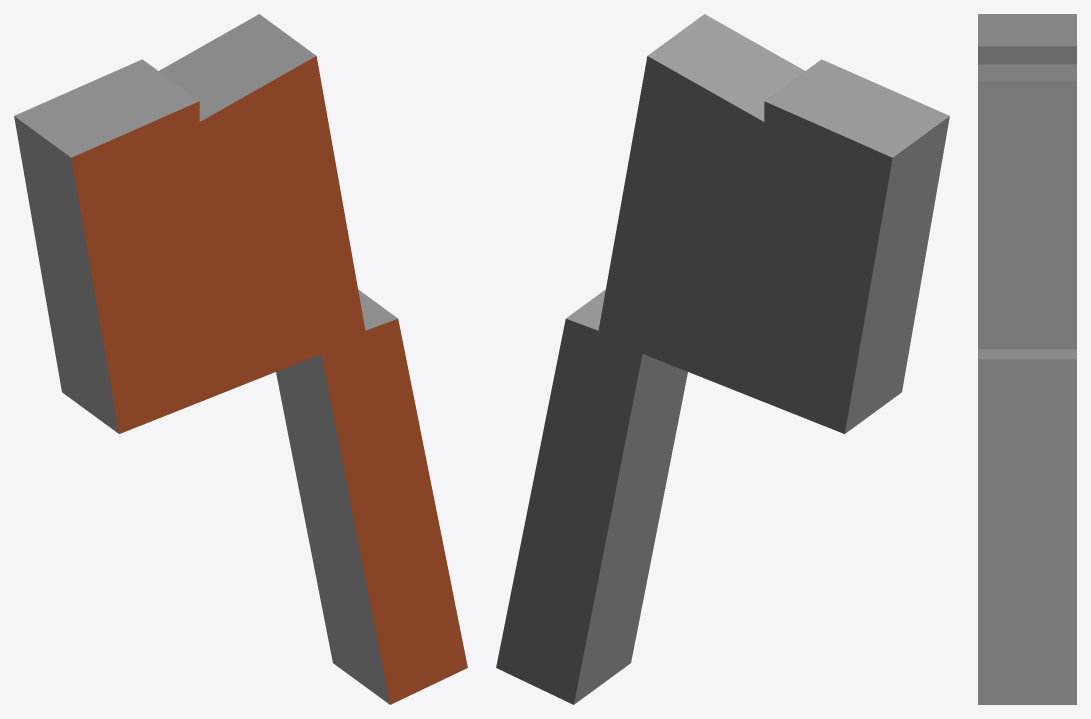
File: construction_6878_assumed_A_Casa_h6m.obj
The picture shows the model from 3 angles, left to right: view 1: azimuth 30°, elevation 25°; view 2: azimuth 150°, elevation 25°; view 3: azimuth 270°, elevation 25°; orthographic projection. The views are drawn at different scales.
Parts seen in each view (by area): view 1: construction_6878_assumed_A_Casa; view 2: construction_6878_assumed_A_Casa; view 3: construction_6878_assumed_A_Casa.
Boxes of the visible parts, x1=… form: construction_6878_assumed_A_Casa: x1=14, y1=14, x2=467, y2=704; construction_6878_assumed_A_Casa: x1=496, y1=14, x2=949, y2=704; construction_6878_assumed_A_Casa: x1=978, y1=14, x2=1076, y2=704.
Bounding box in the file's own units: 24 × 38.56 × 6.
